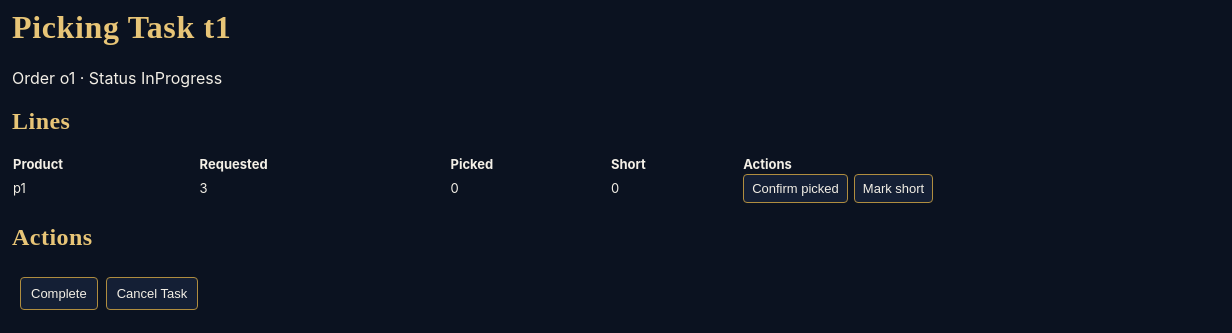
Picking detail lifecycle actions (Sprint 59B) › shows Complete and Cancel for an InProgress task, and reloads authoritative state after Complete
This screenshot has width=1232, height=333.
Click the button "Complete" at (59, 293), box top-left (20, 276), bottom-right (98, 310)
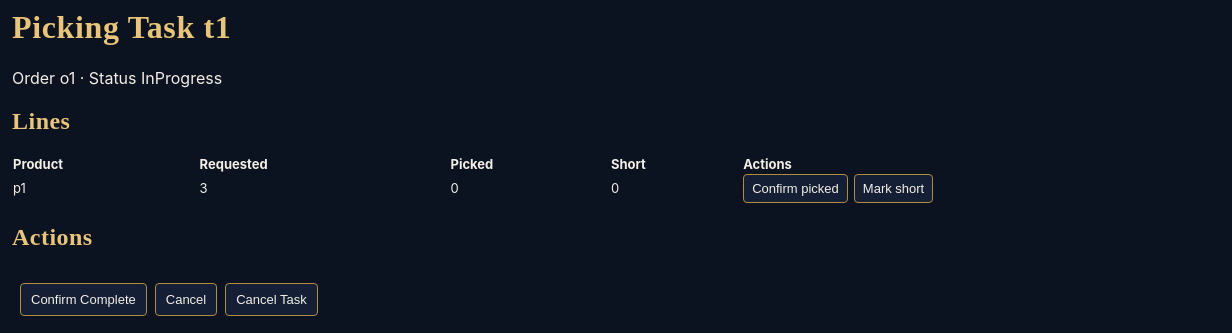
Click the button "Confirm Complete" at (83, 299), box top-left (20, 282), bottom-right (147, 316)
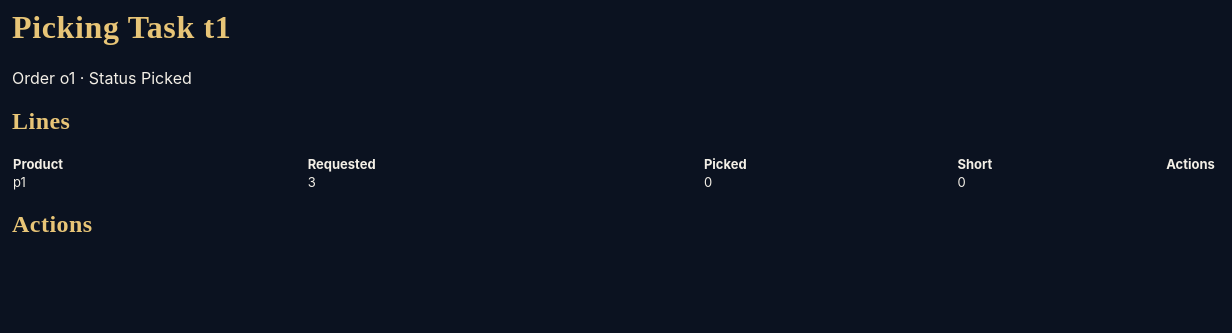
Expected: the text "Order o1 · Status Picked" is shown, top-left (12, 68), bottom-right (192, 88)
